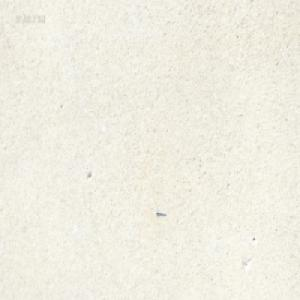Nail: (155, 210, 166, 218)
